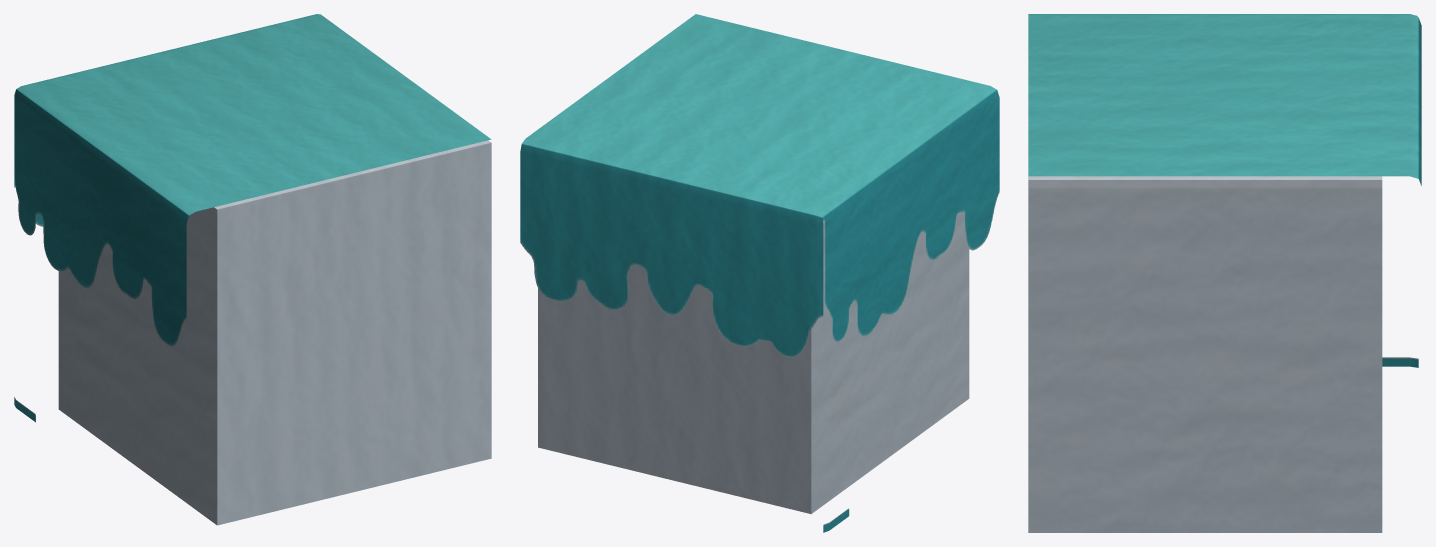
Rendered from Tile1_7.fbx.
3 views of the same model, side by side, from view 1: azimuth 30°, elevation 25°; view 2: azimuth 150°, elevation 25°; view 3: azimuth 270°, elevation 25° (orthographic). The views are drawn at different scales.
Visible parts, largest first — view 1: Tile1_7; view 2: Tile1_7; view 3: Tile1_7.
Part boxes in pixels (left/top/right/bottom): Tile1_7: left=14, top=14, right=491, bottom=525; Tile1_7: left=520, top=14, right=999, bottom=532; Tile1_7: left=1028, top=14, right=1421, bottom=532.
Size of the model in its own units: 1 by 1 by 1.
1 material, 1 textured.
